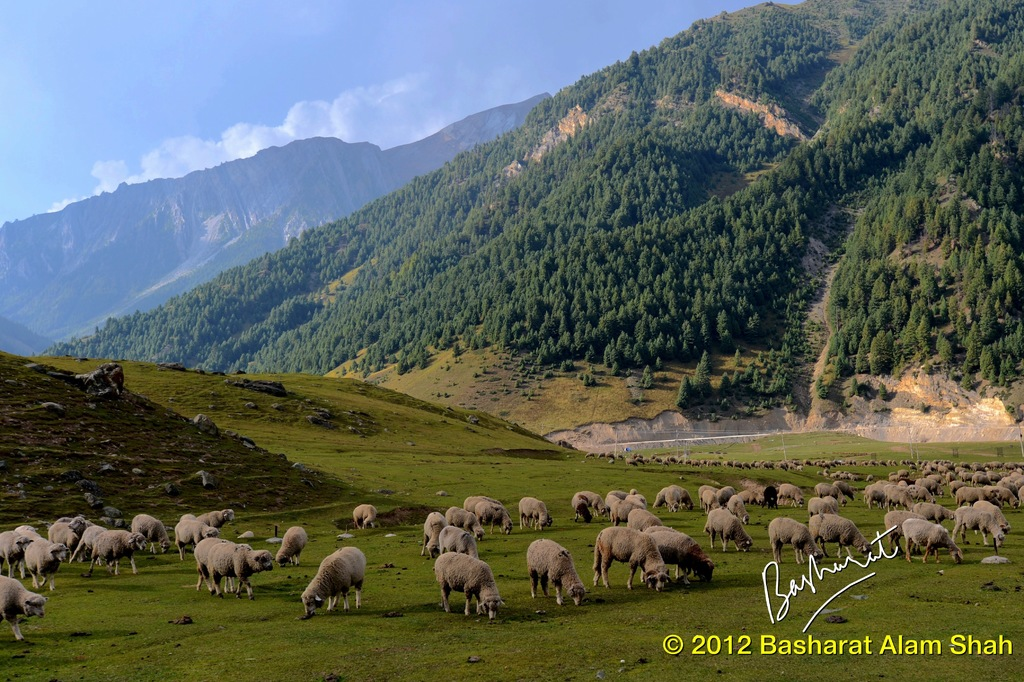sheep: (290, 553, 369, 621), (352, 505, 378, 526)
